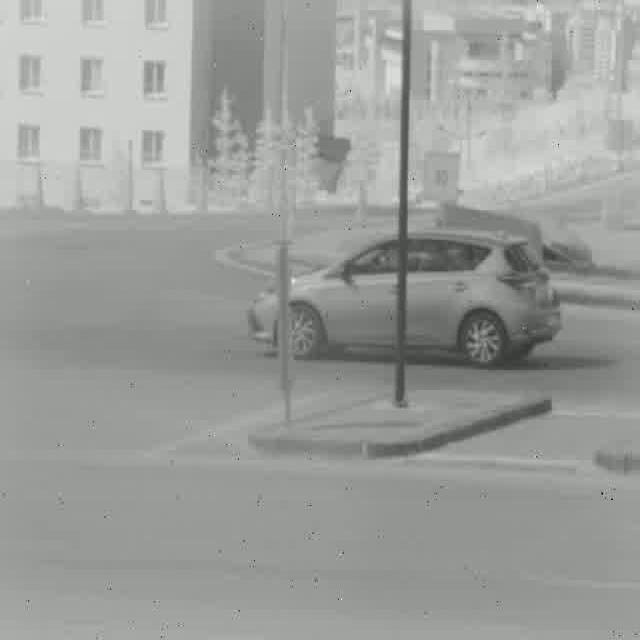Car: (247, 236, 558, 370)
